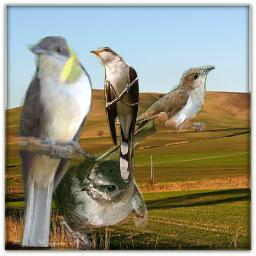Cuckoo: (15, 36, 92, 247), (94, 65, 215, 161), (89, 47, 140, 184)
Swallow: (33, 148, 148, 251)
